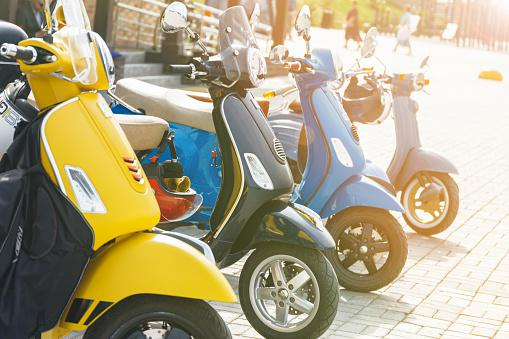motorcycle: (1, 1, 240, 339), (130, 1, 343, 339), (230, 1, 412, 309), (291, 1, 464, 255)
